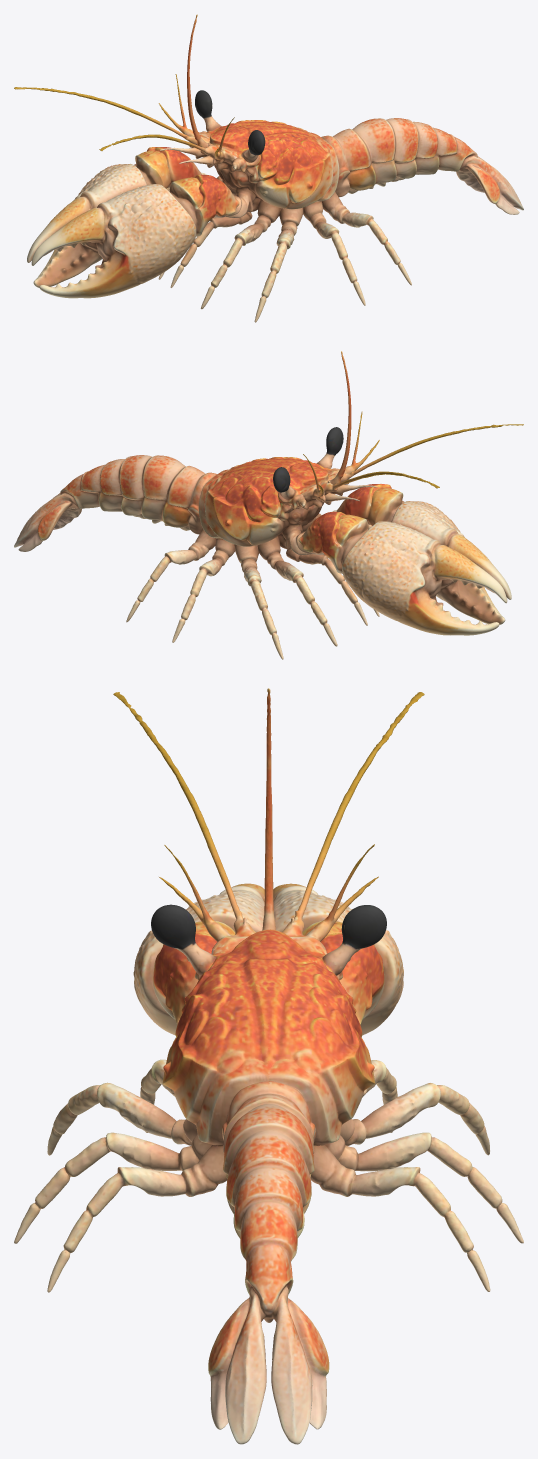
File: Camarón-pistola.glb
3 views of the same model, one above another, from view 1: azimuth 30°, elevation 25°; view 2: azimuth 150°, elevation 25°; view 3: azimuth 270°, elevation 25° (orthographic). The views are drawn at different scales.
Visible parts, largest first — view 1: tripo_node_cc6bf384-22c5-4433-8a23-94c510e52b9b; view 2: tripo_node_cc6bf384-22c5-4433-8a23-94c510e52b9b; view 3: tripo_node_cc6bf384-22c5-4433-8a23-94c510e52b9b.
Part boxes in pixels (x1,y1,x2,y2): tripo_node_cc6bf384-22c5-4433-8a23-94c510e52b9b: (14, 14, 523, 322); tripo_node_cc6bf384-22c5-4433-8a23-94c510e52b9b: (14, 351, 523, 659); tripo_node_cc6bf384-22c5-4433-8a23-94c510e52b9b: (14, 688, 523, 1444).
Bounding box in the file's own units: 1 × 0.526 × 0.5081.
Materials: 1 (1 with a texture image).
